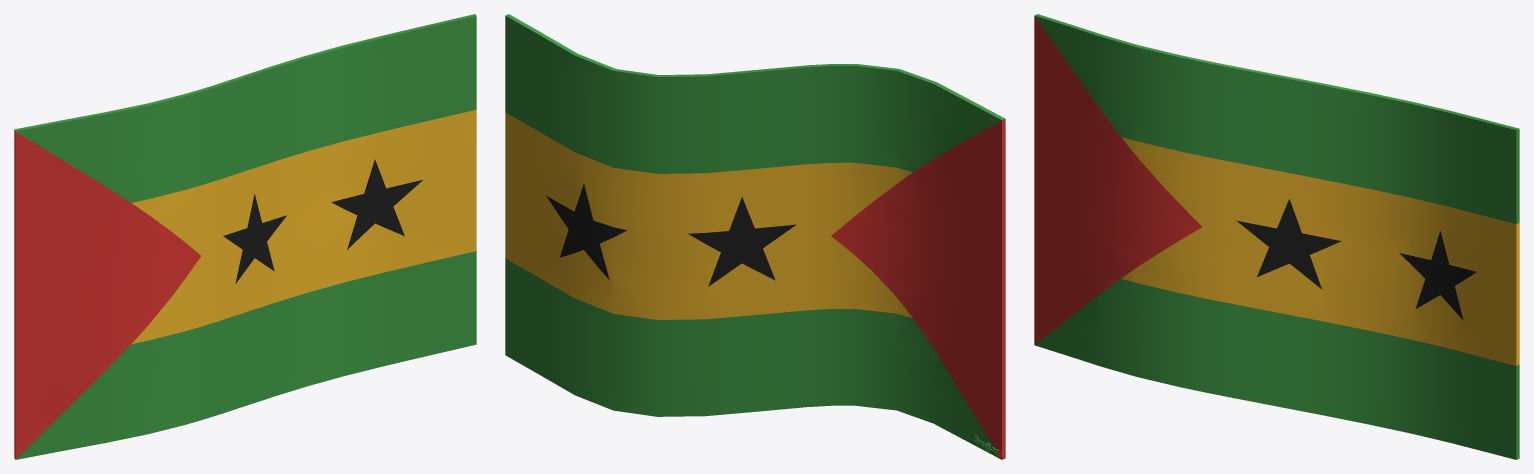
Rendered from flag_sao_tome_and_principe.fbx.
3 views of the same model, side by side, from view 1: azimuth 30°, elevation 25°; view 2: azimuth 150°, elevation 25°; view 3: azimuth 330°, elevation 25° (orthographic). The views are drawn at different scales.
Visible parts, largest first — view 1: flag_sao_tome_and_principe; view 2: flag_sao_tome_and_principe; view 3: flag_sao_tome_and_principe.
Boxes of the visible parts, x1,y1,x2,y2 form: flag_sao_tome_and_principe: (14,14,476,459); flag_sao_tome_and_principe: (505,14,1005,459); flag_sao_tome_and_principe: (1034,14,1519,459).
Size of the model in its own units: 218 by 158 by 33.73.
Materials: 2 (2 with a texture image).
